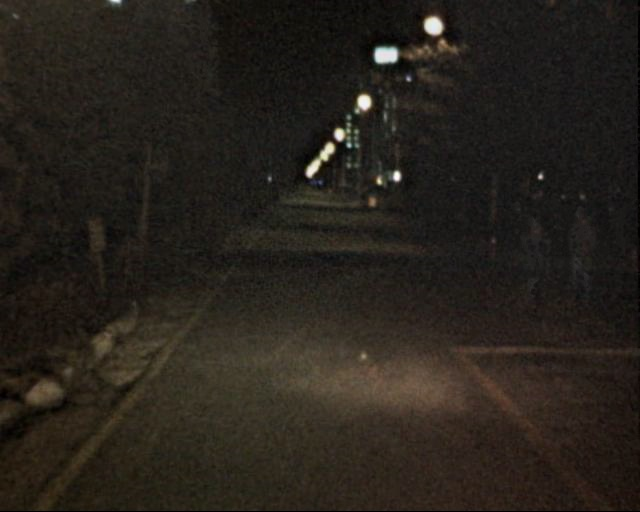person: (559, 201, 603, 308), (516, 213, 553, 303)
